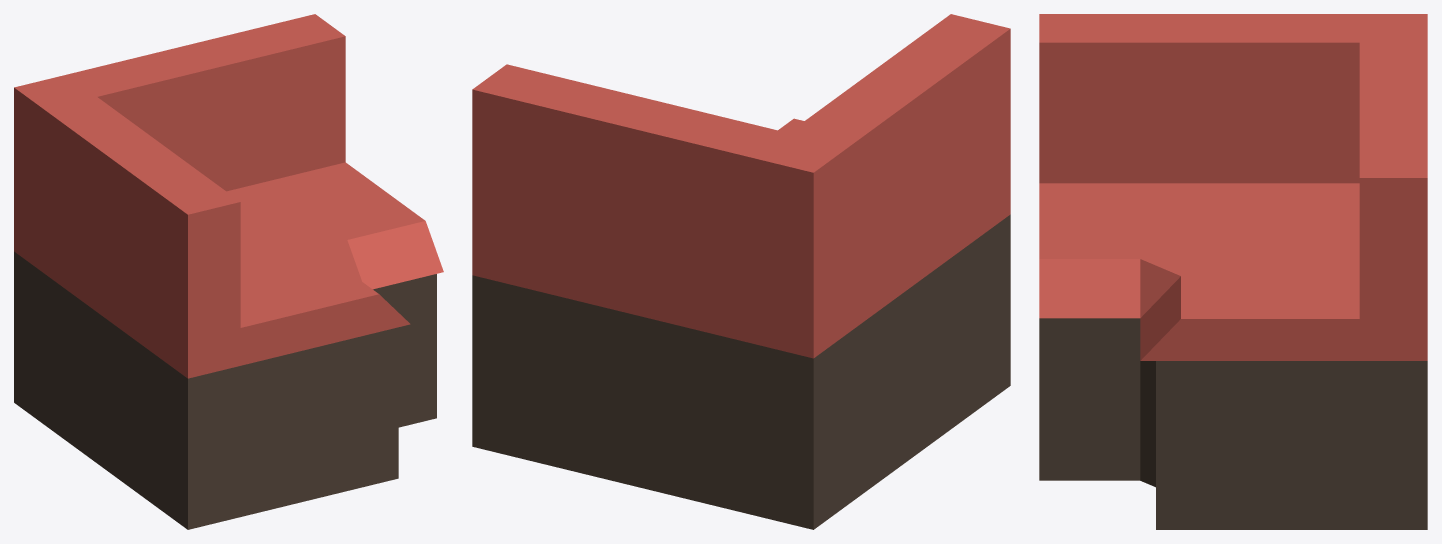
The model's file is Booth Seat Invert Corner.fbx.
3 views of the same model, side by side, from view 1: azimuth 30°, elevation 25°; view 2: azimuth 150°, elevation 25°; view 3: azimuth 270°, elevation 25° (orthographic). The views are drawn at different scales.
Parts seen in each view (by area): view 1: Booth Seat Invert Corner; view 2: Booth Seat Invert Corner; view 3: Booth Seat Invert Corner.
Part boxes in pixels (x1,y1,x2,y2): Booth Seat Invert Corner: (14, 14, 443, 529); Booth Seat Invert Corner: (472, 14, 1010, 529); Booth Seat Invert Corner: (1039, 14, 1427, 529).
Bounding box in the file's own units: 750 × 750 × 750.
